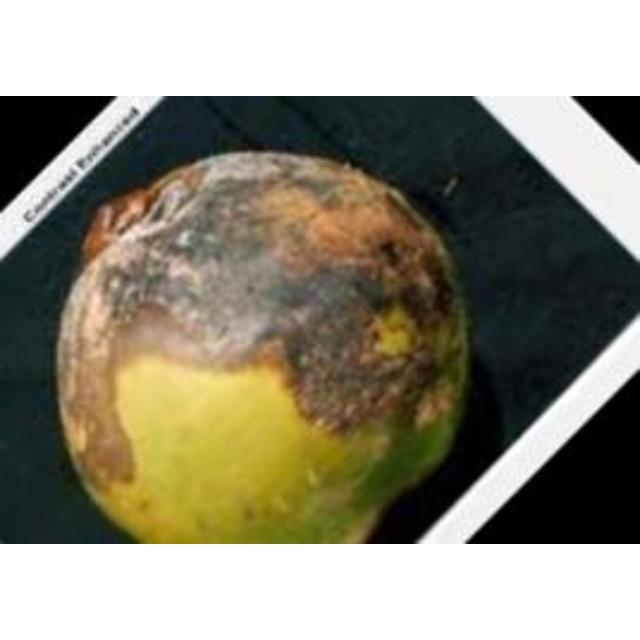damaged: (50, 151, 473, 543)
